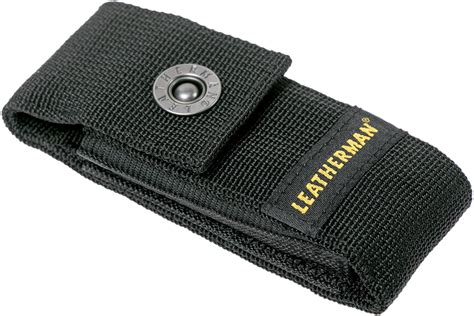nylon: (1, 4, 474, 316)
